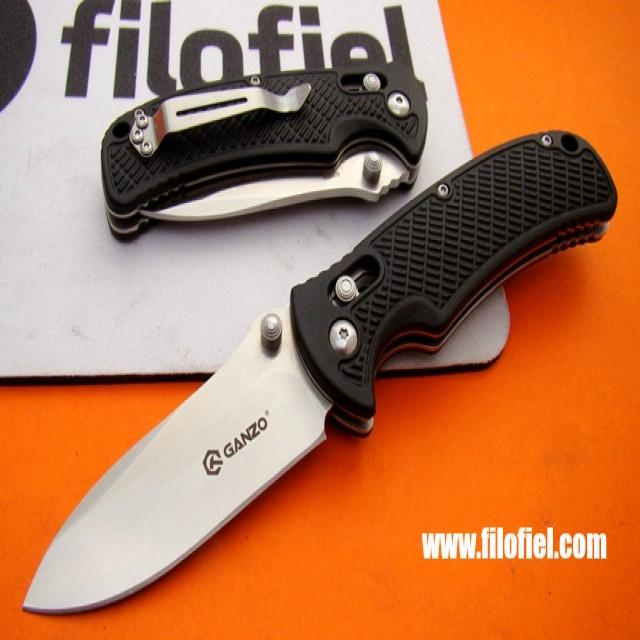knife: (19, 117, 621, 621)
